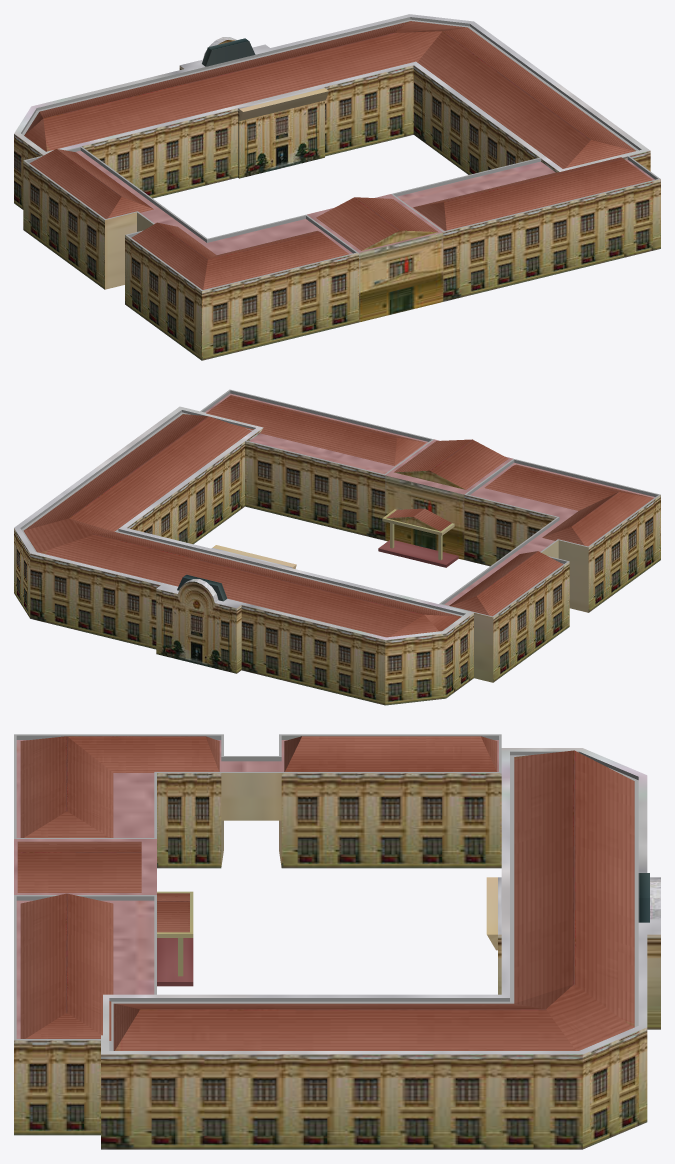
The picture shows the model from 3 angles, top to bottom: view 1: azimuth 30°, elevation 25°; view 2: azimuth 150°, elevation 25°; view 3: azimuth 270°, elevation 25°; orthographic projection. The views are drawn at different scales.
Parts seen in each view (by area): view 1: 5dd7a57f70d9de1cf0623853; view 2: 5dd7a57f70d9de1cf0623853; view 3: 5dd7a57f70d9de1cf0623853.
Boxes of the visible parts, x1=… form: 5dd7a57f70d9de1cf0623853: x1=14, y1=14, x2=660, y2=360; 5dd7a57f70d9de1cf0623853: x1=14, y1=389, x2=660, y2=705; 5dd7a57f70d9de1cf0623853: x1=14, y1=734, x2=660, y2=1149.
Bounding box in the file's own units: 90.04 × 15.65 × 76.93.
1 material, 1 textured.
